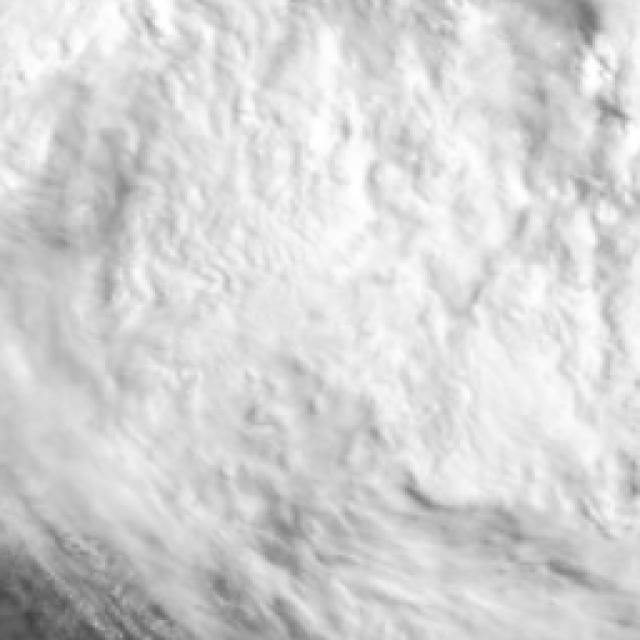CB: (169, 130, 444, 362), (375, 310, 566, 470)
